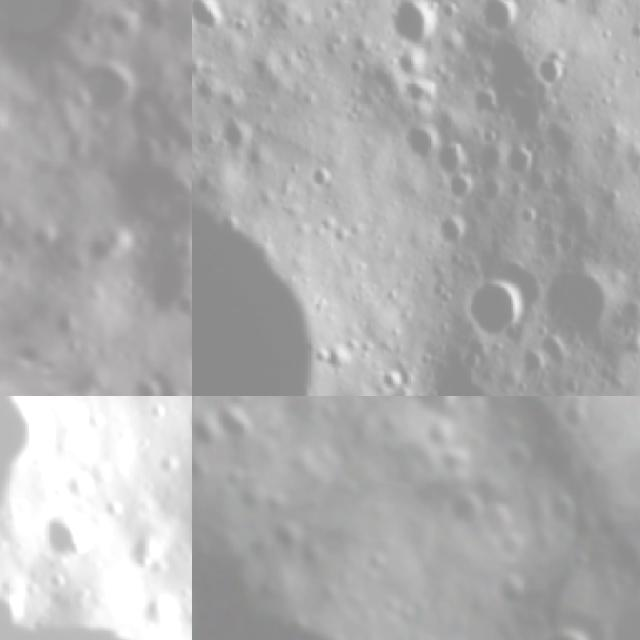crater: (0, 491, 192, 640), (62, 47, 144, 128), (28, 495, 102, 569), (542, 268, 616, 339), (458, 274, 524, 338), (114, 536, 167, 590), (127, 586, 180, 638), (215, 398, 257, 458), (396, 0, 440, 50), (559, 396, 599, 445), (445, 488, 484, 531), (546, 484, 584, 528), (602, 598, 640, 640), (523, 619, 598, 640), (412, 396, 465, 425), (243, 572, 283, 610), (490, 572, 529, 610), (538, 53, 571, 97), (265, 520, 305, 556), (192, 0, 223, 45), (405, 123, 438, 161), (508, 138, 540, 177), (435, 214, 468, 248), (492, 531, 526, 564), (218, 120, 253, 152), (482, 0, 517, 32), (170, 281, 192, 326), (192, 167, 220, 200), (376, 367, 409, 395), (444, 174, 476, 201), (483, 502, 509, 534), (520, 349, 554, 373), (364, 547, 385, 580), (284, 612, 310, 635), (441, 142, 462, 170), (312, 162, 328, 193), (218, 212, 242, 232), (192, 396, 203, 412)
